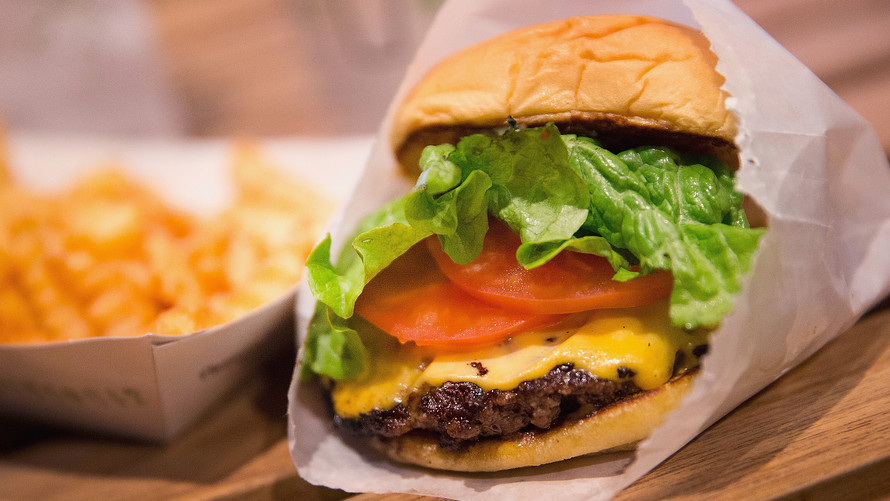hamburger: (318, 29, 761, 500)
